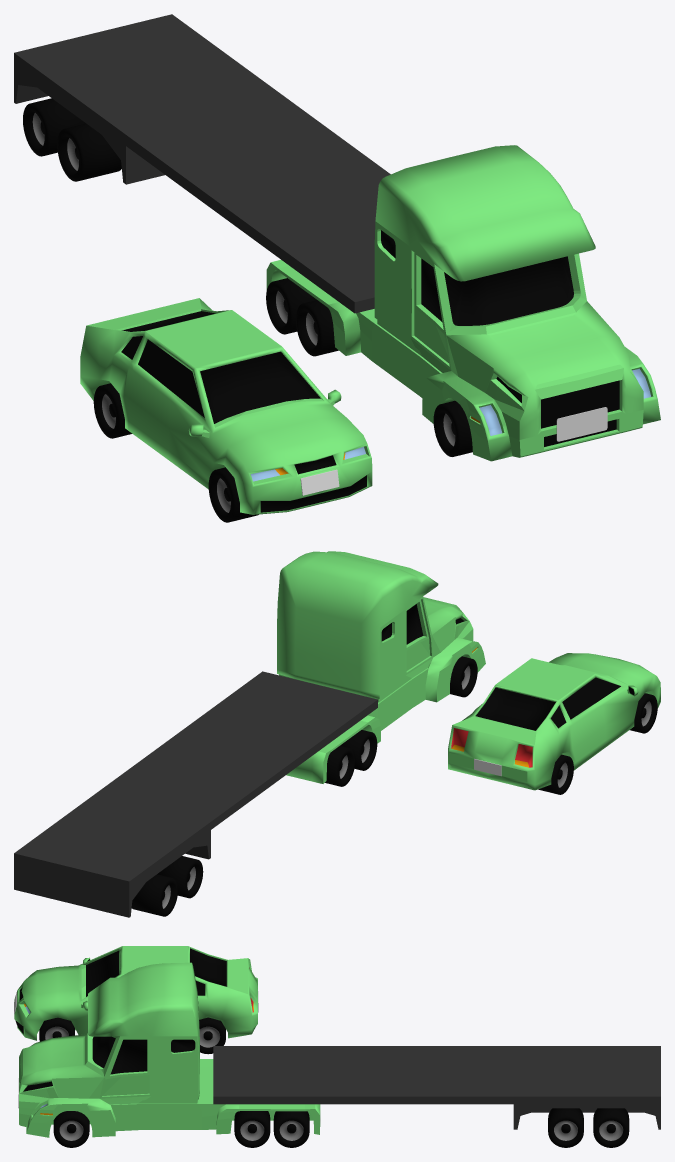
Rendered from Vehicles.fbx.
3 renders of one model, top to bottom at view 1: azimuth 30°, elevation 25°; view 2: azimuth 150°, elevation 25°; view 3: azimuth 270°, elevation 25°, orthographic. The views are drawn at different scales.
Visible parts, largest first — view 1: Semi Truck, Payload Hold, Car, Payload Wheels, Payload Wheels.001, Back Wheels.002, Wheels, Back Wheels.001, Front Wheels, Back Wheels; view 2: Payload Hold, Semi Truck, Car, Payload Wheels.001, Payload Wheels, Back Wheels.001, Wheels, Back Wheels.002, Back Wheels, Front Wheels; view 3: Payload Hold, Semi Truck, Car, Payload Wheels.001, Payload Wheels, Back Wheels.002, Back Wheels.001, Wheels, Back Wheels, Front Wheels.
Boxes of the visible parts, <box> form: Semi Truck: <box>266,145,660,461</box>; Payload Hold: <box>14,14,390,313</box>; Car: <box>80,298,372,514</box>; Payload Wheels: <box>57,123,121,181</box>; Payload Wheels.001: <box>23,98,85,156</box>; Back Wheels.002: <box>296,300,338,356</box>; Wheels: <box>433,400,472,456</box>; Back Wheels.001: <box>266,278,316,334</box>; Front Wheels: <box>208,467,258,522</box>; Back Wheels: <box>93,383,132,438</box>; Payload Hold: <box>14,671,377,917</box>; Semi Truck: <box>277,551,485,783</box>; Car: <box>448,653,660,790</box>; Payload Wheels.001: <box>131,874,177,916</box>; Payload Wheels: <box>157,856,203,898</box>; Back Wheels.001: <box>325,746,355,786</box>; Wheels: <box>450,656,477,697</box>; Back Wheels.002: <box>340,730,377,770</box>; Back Wheels: <box>538,754,573,794</box>; Front Wheels: <box>630,693,657,733</box>; Payload Hold: <box>213,1046,660,1129</box>; Semi Truck: <box>18,962,320,1137</box>; Car: <box>14,946,258,1040</box>; Payload Wheels.001: <box>593,1108,629,1147</box>; Payload Wheels: <box>548,1108,583,1147</box>; Back Wheels.002: <box>234,1111,270,1147</box>; Back Wheels.001: <box>273,1111,309,1147</box>; Wheels: <box>53,1111,89,1147</box>; Back Wheels: <box>199,1017,225,1054</box>; Front Wheels: <box>39,1017,74,1041</box>.
Bounding box in the file's own units: 659 × 301 × 1291.
